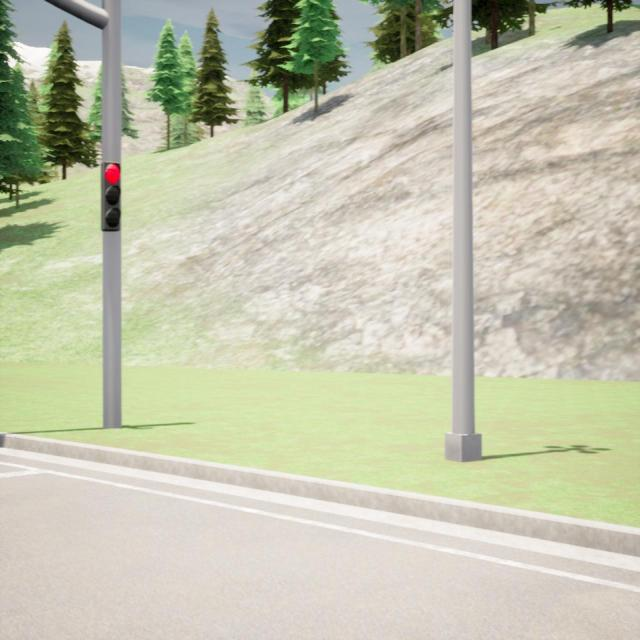traffic_light: (102, 162, 120, 230)
